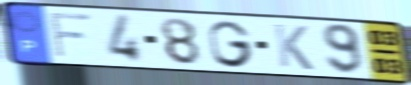4: (104, 12, 144, 66)
8: (159, 16, 202, 67)
9: (320, 22, 366, 77)
F: (47, 10, 95, 60)
G: (206, 18, 256, 69)
K: (271, 22, 316, 72)
